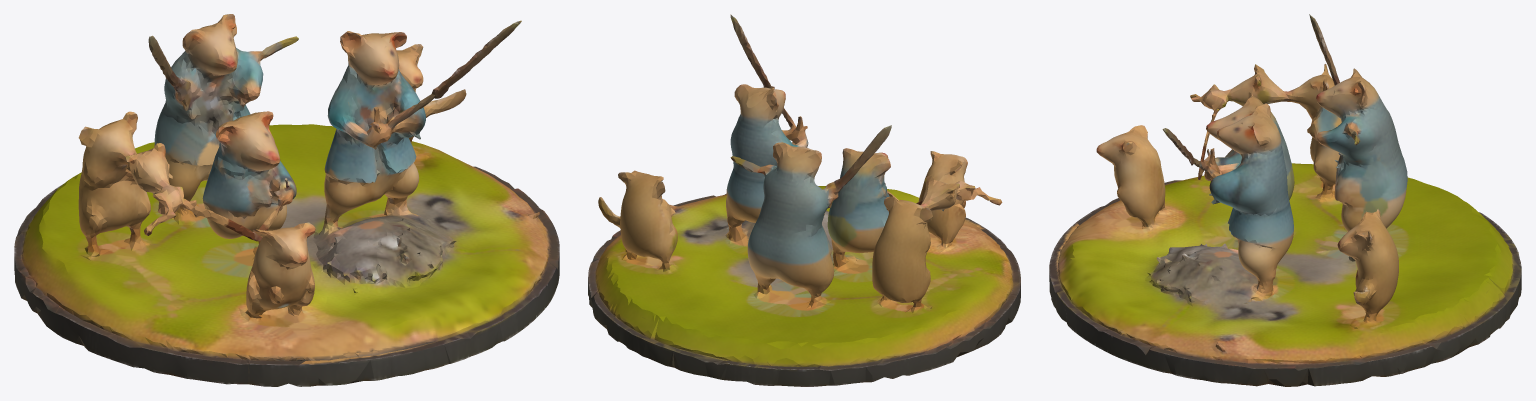
3 renders of one model, left to right at view 1: azimuth 30°, elevation 25°; view 2: azimuth 150°, elevation 25°; view 3: azimuth 270°, elevation 25°, orthographic. The views are drawn at different scales.
Visible parts, largest first — view 1: HeroicCharge; view 2: HeroicCharge; view 3: HeroicCharge.
Part boxes in pixels (x1,y1,x2,y2): HeroicCharge: (14, 14, 559, 386); HeroicCharge: (588, 14, 1020, 386); HeroicCharge: (1049, 14, 1521, 386).
Size of the model in its own units: 1.9 by 1.01 by 1.9.
Materials: 1 (1 with a texture image).
